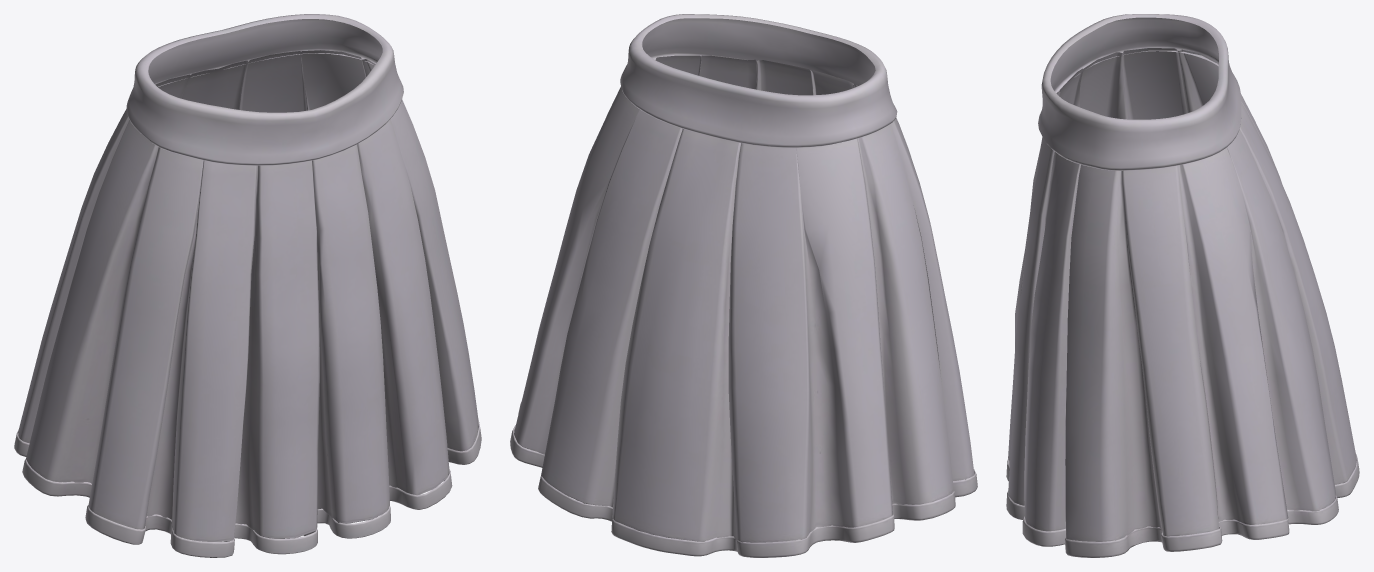
File: skirt_pleated.glb
3 views of the same model, side by side, from view 1: azimuth 30°, elevation 25°; view 2: azimuth 150°, elevation 25°; view 3: azimuth 270°, elevation 25° (orthographic).
Parts seen in each view (by area): view 1: tripo_node_5dc5758b-534a-487f-a3d5-2d644c0b93bf; view 2: tripo_node_5dc5758b-534a-487f-a3d5-2d644c0b93bf; view 3: tripo_node_5dc5758b-534a-487f-a3d5-2d644c0b93bf.
Part boxes in pixels (x1,y1,x2,y2): tripo_node_5dc5758b-534a-487f-a3d5-2d644c0b93bf: [14, 14, 481, 557]; tripo_node_5dc5758b-534a-487f-a3d5-2d644c0b93bf: [510, 14, 977, 557]; tripo_node_5dc5758b-534a-487f-a3d5-2d644c0b93bf: [1006, 14, 1359, 557].
Size of the model in its own units: 0.9995 by 0.9839 by 0.7358.
Materials: 1 (1 with a texture image).
